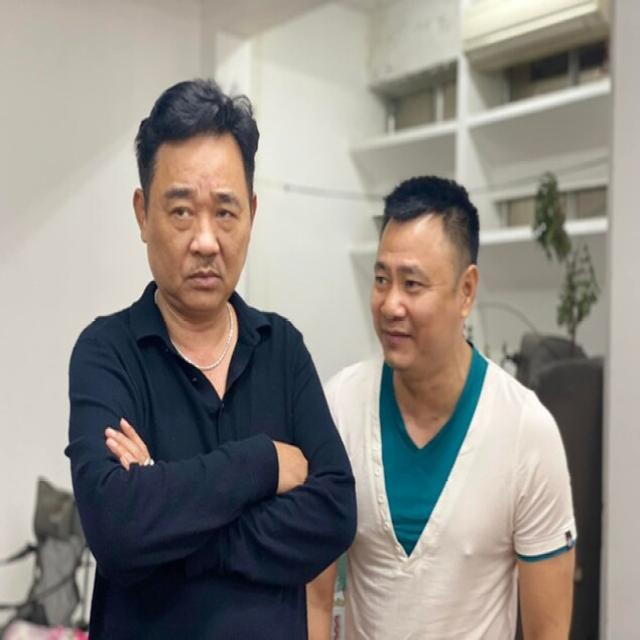Nonhelmet: (130, 74, 261, 316), (362, 165, 488, 382)
